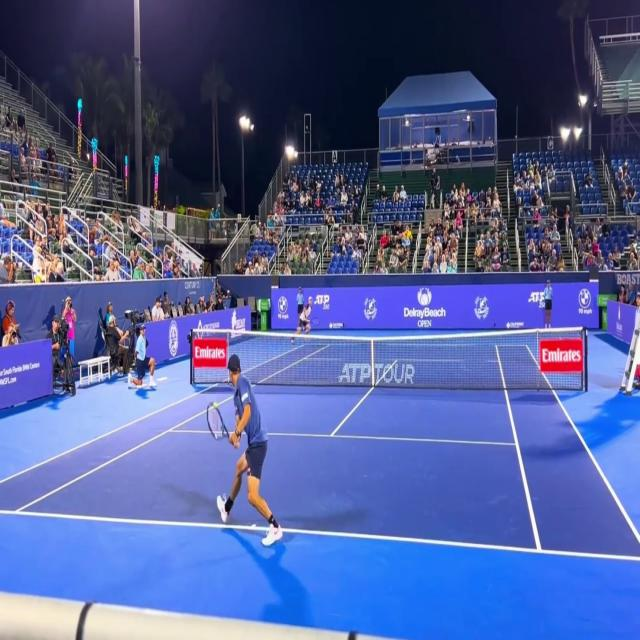tennisBall: (212, 399, 220, 417)
